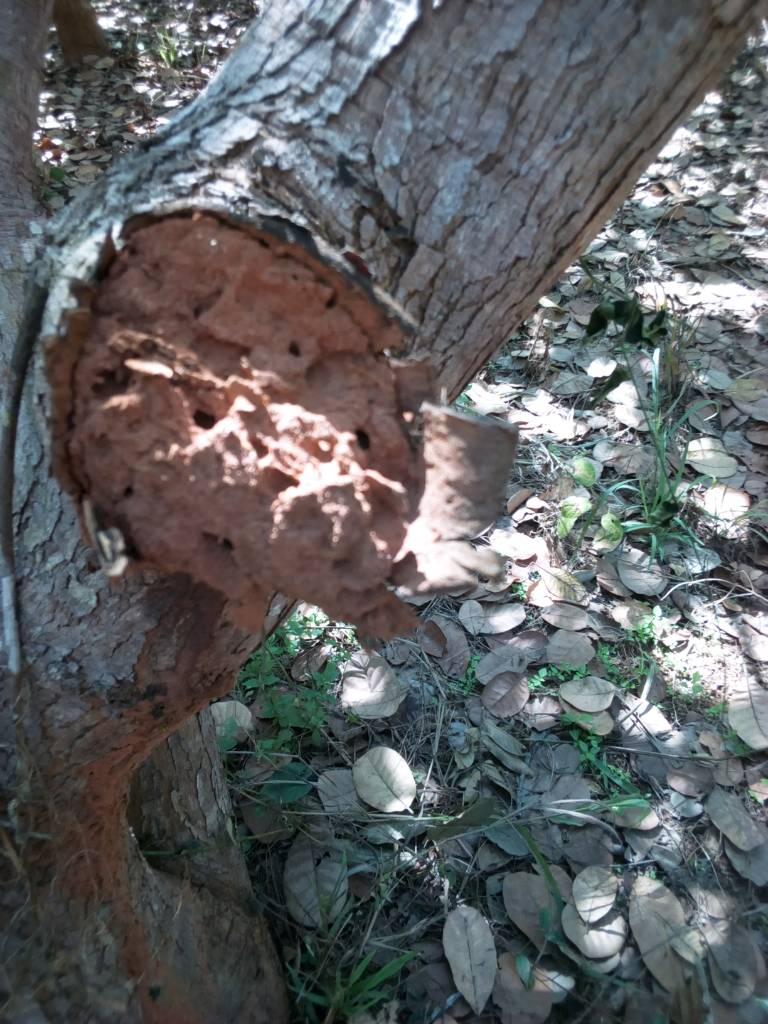Termites: (57, 216, 418, 628), (88, 663, 208, 1024)
